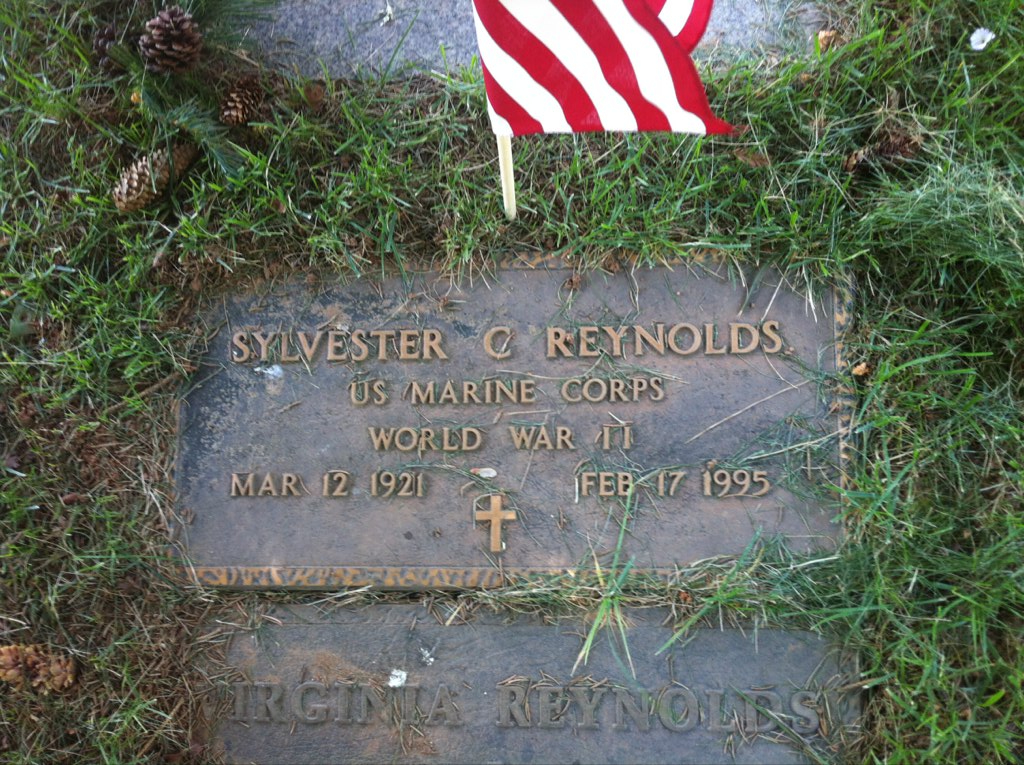flat: (172, 227, 875, 592)
